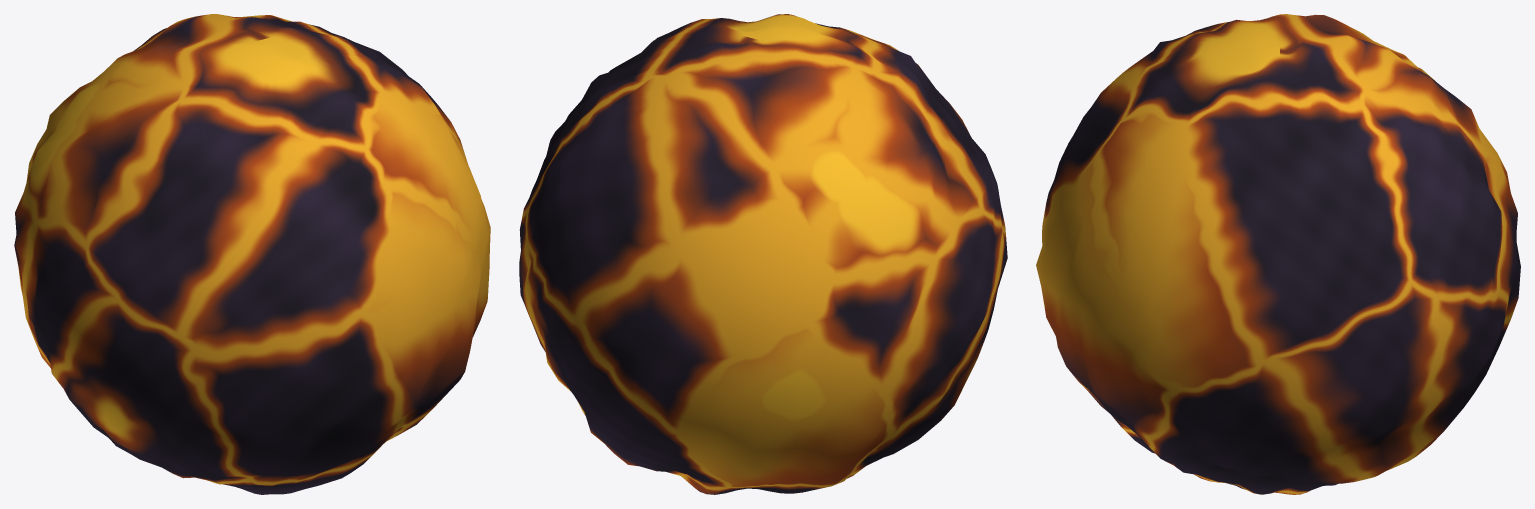
The model's file is volcanic_bombard_shell.obj.
3 renders of one model, left to right at view 1: azimuth 30°, elevation 25°; view 2: azimuth 150°, elevation 25°; view 3: azimuth 270°, elevation 25°, orthographic. The views are drawn at different scales.
Parts seen in each view (by area): view 1: volcanic_bombard_shell; view 2: volcanic_bombard_shell; view 3: volcanic_bombard_shell.
Boxes of the visible parts, x1=… form: volcanic_bombard_shell: x1=14, y1=14, x2=490, y2=494; volcanic_bombard_shell: x1=519, y1=14, x2=1007, y2=494; volcanic_bombard_shell: x1=1036, y1=14, x2=1520, y2=494.
Bounding box in the file's own units: 2.03 × 2.02 × 2.06.
Materials: 1 (1 with a texture image).
